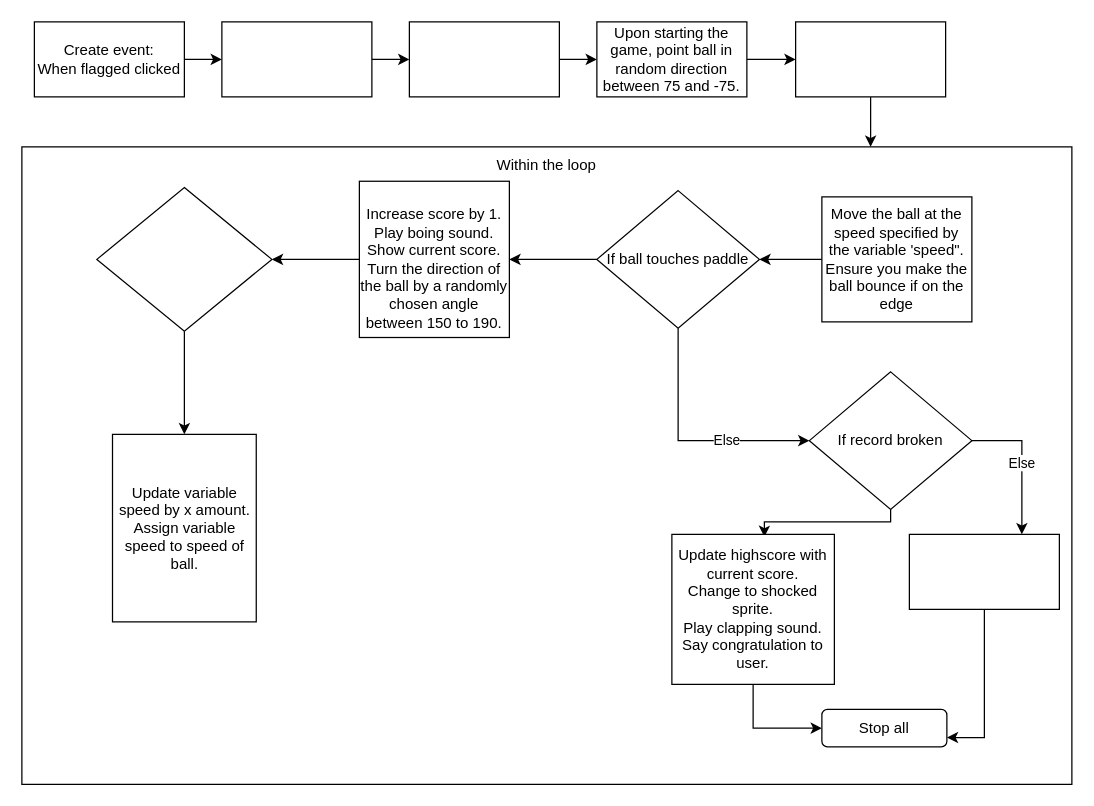
Image size: 1094x806. Some labels were removed from this diagram. The shapes that lost their labels are listed below. From the top down, each one's centre as x and y in pixels, then its label:
the point at 296,59: Initialize variables: Score, level and speed
the point at 483,59: Perform countdown by using hide/show sprite.
the point at 870,59: Create a forever loop
the point at 184,258: If score multiples of 5
the point at 983,571: Play losing sound. Change costume Say Game over.
